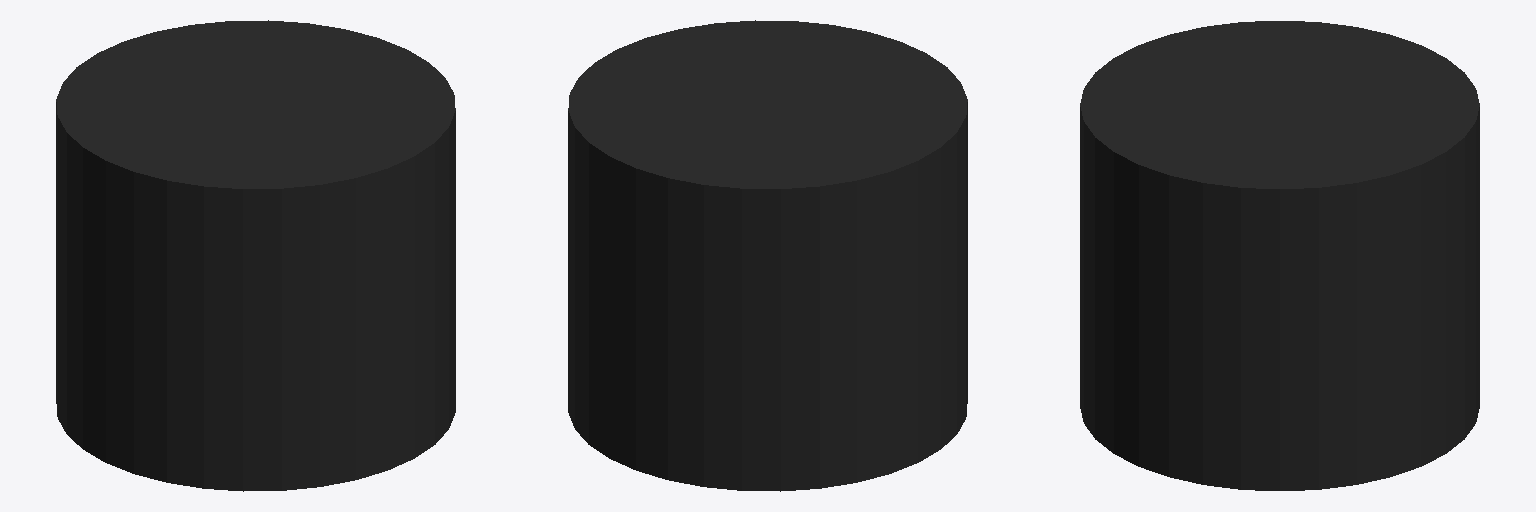
robot.urdf — megarover:
<!--
  Copyright 2016 The Cartographer Authors

  Licensed under the Apache License, Version 2.0 (the "License");
  you may not use this file except in compliance with the License.
  You may obtain a copy of the License at

       http://www.apache.org/licenses/LICENSE-2.0

  Unless required by applicable law or agreed to in writing, software
  distributed under the License is distributed on an "AS IS" BASIS,
  WITHOUT WARRANTIES OR CONDITIONS OF ANY KIND, either express or implied.
  See the License for the specific language governing permissions and
  limitations under the License.
-->

<robot name="megarover">
  <material name="orange">
    <color rgba="1.0 0.5 0.2 1" />
  </material>
  <material name="gray">
    <color rgba="0.2 0.2 0.2 1" />
  </material>


  <link name="horizontal_laser_link">
    <visual>
      <origin xyz="0 0 0" />
      <geometry>
        <cylinder length="0.05" radius="0.03" />
      </geometry>
      <material name="gray" />
    </visual>
  </link>

  <link name="base_link" />


  <joint name="horizontal_laser_link_joint" type="fixed">
    <parent link="base_link" />
    <child link="horizontal_laser_link" />
    <origin xyz="0.1 0 0.06" rpy="3.14159 0.0 0.0"/>
  </joint>

</robot>

--- Facts derived from the render (not from the file) ---
The picture shows the robot from 3 angles, left to right: view 1: azimuth 30°, elevation 25°; view 2: azimuth 150°, elevation 25°; view 3: azimuth 270°, elevation 25°; orthographic projection.
Model megarover with 2 links and 1 joints (1 fixed), rooted at base_link, posed every joint at zero.
Links seen in each view (by area): view 1: horizontal_laser_link; view 2: horizontal_laser_link; view 3: horizontal_laser_link.
Link boxes in pixels (<box>): horizontal_laser_link: <box>56,20,455,491</box>; horizontal_laser_link: <box>568,20,967,491</box>; horizontal_laser_link: <box>1080,21,1479,490</box>.
Bounding box of the posed robot: 0.06 × 0.06 × 0.05 m (x, y, z).
Geometry: primitives only (box / cylinder / sphere), no mesh files.